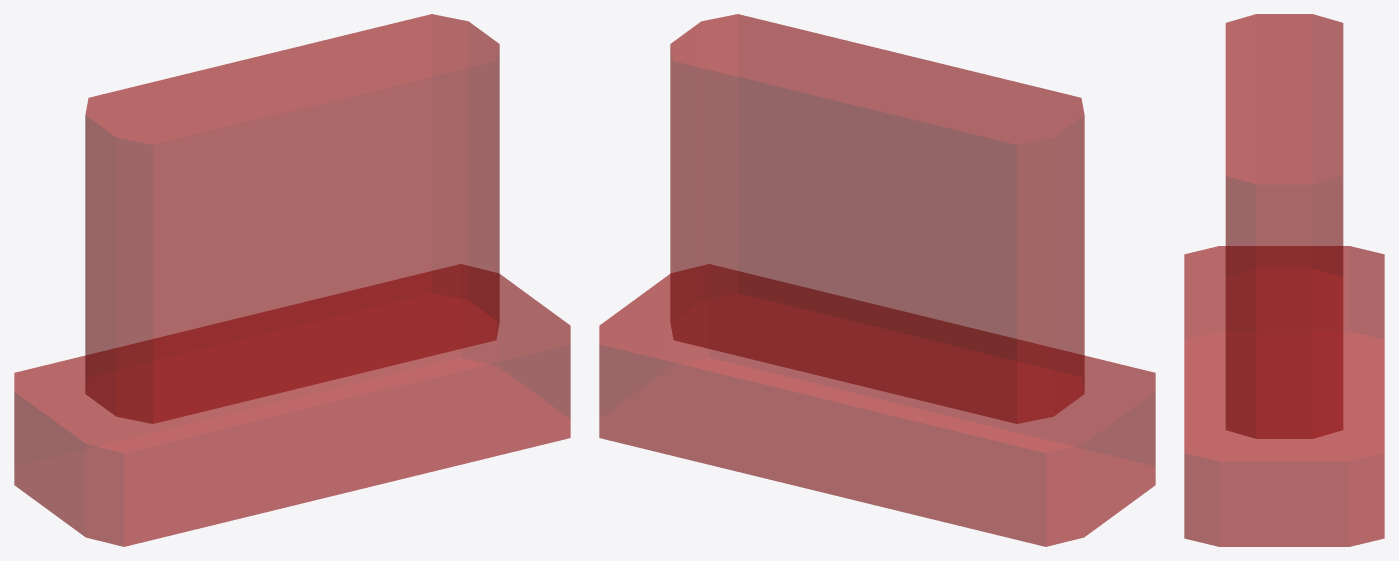
Rendered from SM_Env_Motorway_Support_01_Collision.fbx.
3 renders of one model, left to right at view 1: azimuth 30°, elevation 25°; view 2: azimuth 150°, elevation 25°; view 3: azimuth 270°, elevation 25°, orthographic. The views are drawn at different scales.
Visible parts, largest first — view 1: SM_Env_Motorway_Support_01_Collision; view 2: SM_Env_Motorway_Support_01_Collision; view 3: SM_Env_Motorway_Support_01_Collision.
Boxes of the visible parts, left/top/right/bottom form: SM_Env_Motorway_Support_01_Collision: left=14, top=14, right=570, bottom=546; SM_Env_Motorway_Support_01_Collision: left=599, top=14, right=1155, bottom=546; SM_Env_Motorway_Support_01_Collision: left=1184, top=14, right=1384, bottom=546.
Size of the model in its own units: 1435 by 1055 by 563.
